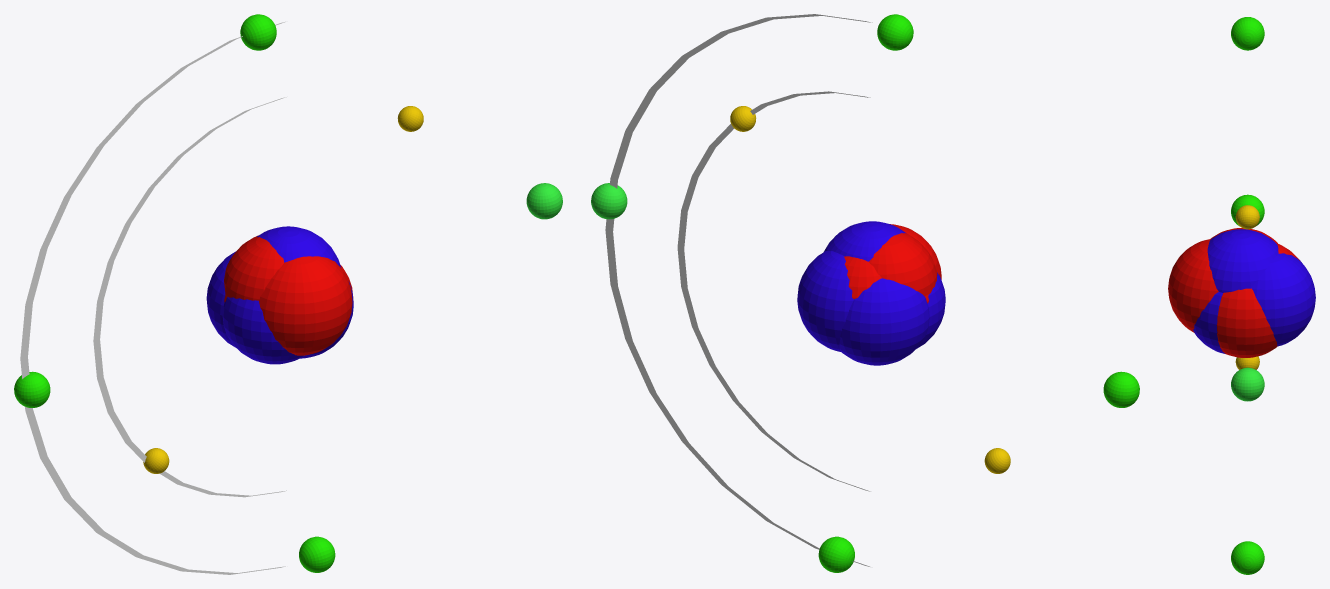
The model's file is Carbono_2.glb.
3 renders of one model, left to right at view 1: azimuth 30°, elevation 25°; view 2: azimuth 150°, elevation 25°; view 3: azimuth 270°, elevation 25°, orthographic. The views are drawn at different scales.
Visible parts, largest first — view 1: Sphere.002, Circle, Sphere.023, Circle.001, Sphere.008, Sphere.004, Sphere.006, Sphere.009, Sphere.027; view 2: Sphere.009, Circle, Sphere.023, Sphere.010, Circle.001, Sphere.004, Sphere.006, Sphere.027, Sphere.001, Sphere.008; view 3: Sphere.010, Sphere.006, Sphere.023, Sphere.003, Sphere.002, Sphere.007, Sphere.027.
Boxes of the visible parts, x1,y1,x2,y2 form: Sphere.002: [259, 256, 352, 355]; Circle: [20, 21, 285, 574]; Sphere.023: [14, 14, 562, 572]; Circle.001: [93, 97, 286, 497]; Sphere.008: [222, 297, 303, 364]; Sphere.004: [224, 237, 284, 300]; Sphere.006: [257, 226, 341, 267]; Sphere.009: [206, 251, 236, 347]; Sphere.027: [143, 106, 423, 473]; Sphere.009: [839, 278, 929, 365]; Circle: [605, 14, 872, 566]; Sphere.023: [591, 14, 1139, 572]; Sphere.010: [797, 251, 853, 351]; Circle.001: [677, 91, 870, 491]; Sphere.004: [869, 233, 937, 296]; Sphere.006: [824, 221, 906, 261]; Sphere.027: [730, 106, 1010, 473]; Sphere.001: [844, 256, 881, 298]; Sphere.008: [916, 272, 945, 348]; Sphere.010: [1251, 253, 1315, 346]; Sphere.006: [1207, 229, 1278, 292]; Sphere.023: [1231, 17, 1264, 574]; Sphere.003: [1216, 288, 1277, 357]; Sphere.002: [1168, 238, 1218, 332]; Sphere.007: [1193, 292, 1225, 353]; Sphere.027: [1235, 205, 1259, 369].
Bounding box in the file's own units: 4.78 × 4.78 × 1.21.
